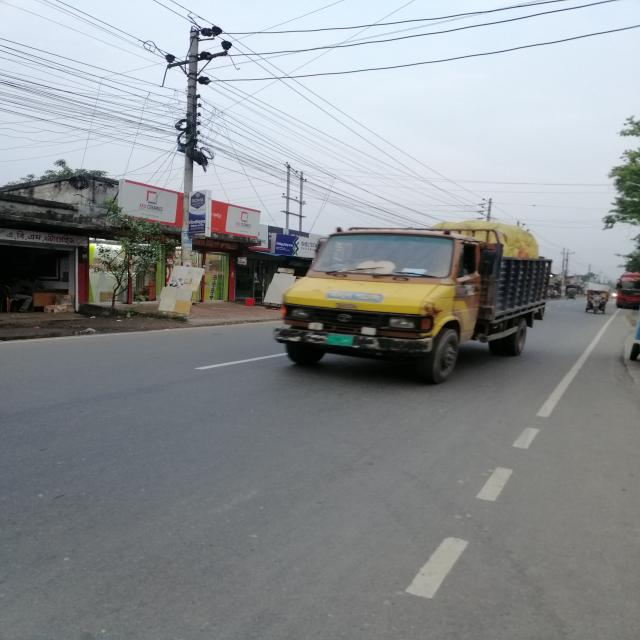Pick-up-van: (267, 216, 552, 382)
